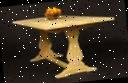Mesa: (11, 9, 121, 82)
